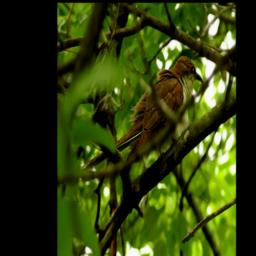Cuckoo: (82, 53, 204, 173)
